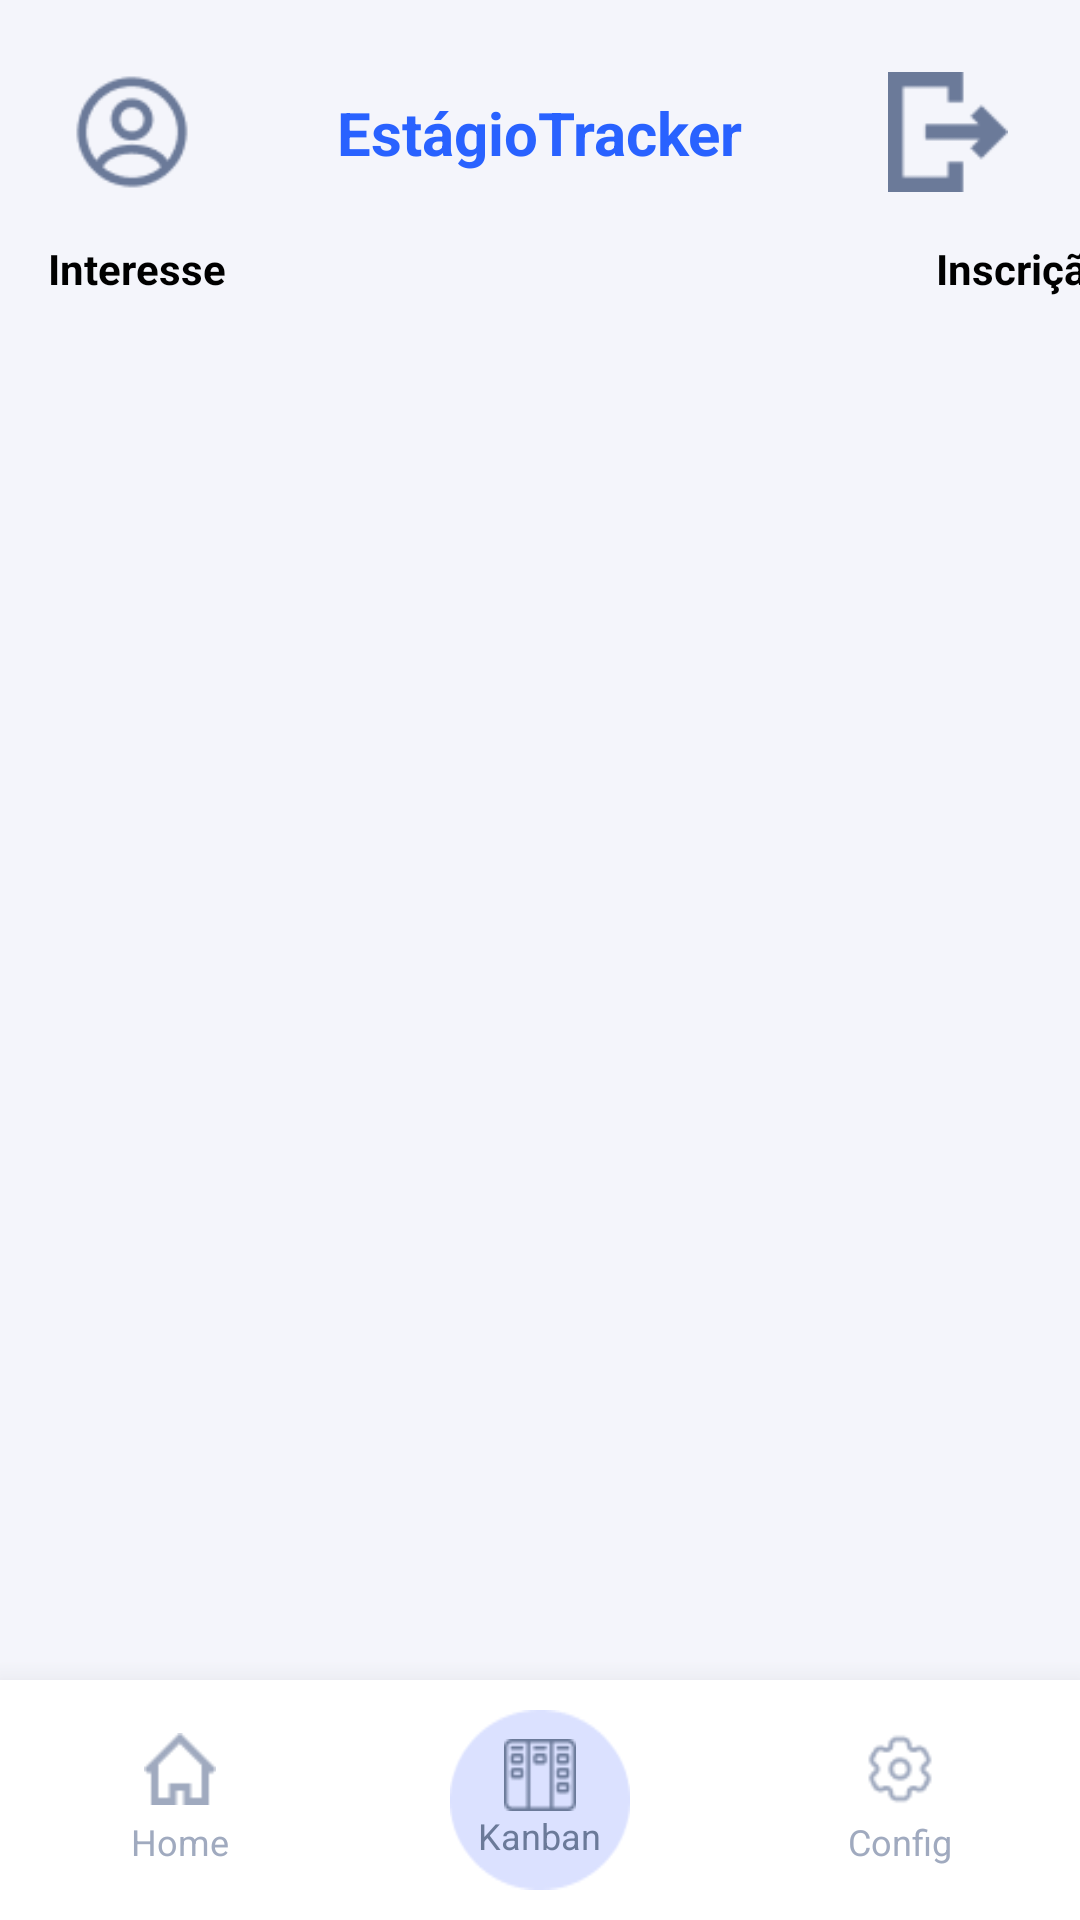

Icons on this 1080px×1920px Android screen, each with its box as bbox=(x1, y1, x2, y2):
exit: bbox=(888, 72, 1008, 192)
perfil: bbox=(76, 76, 188, 188)
